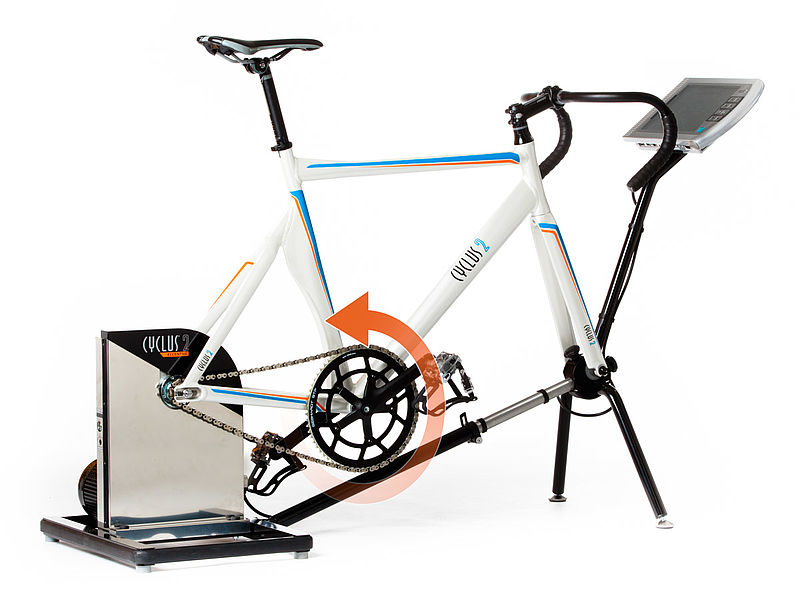gym_bike: (40, 19, 762, 582)
